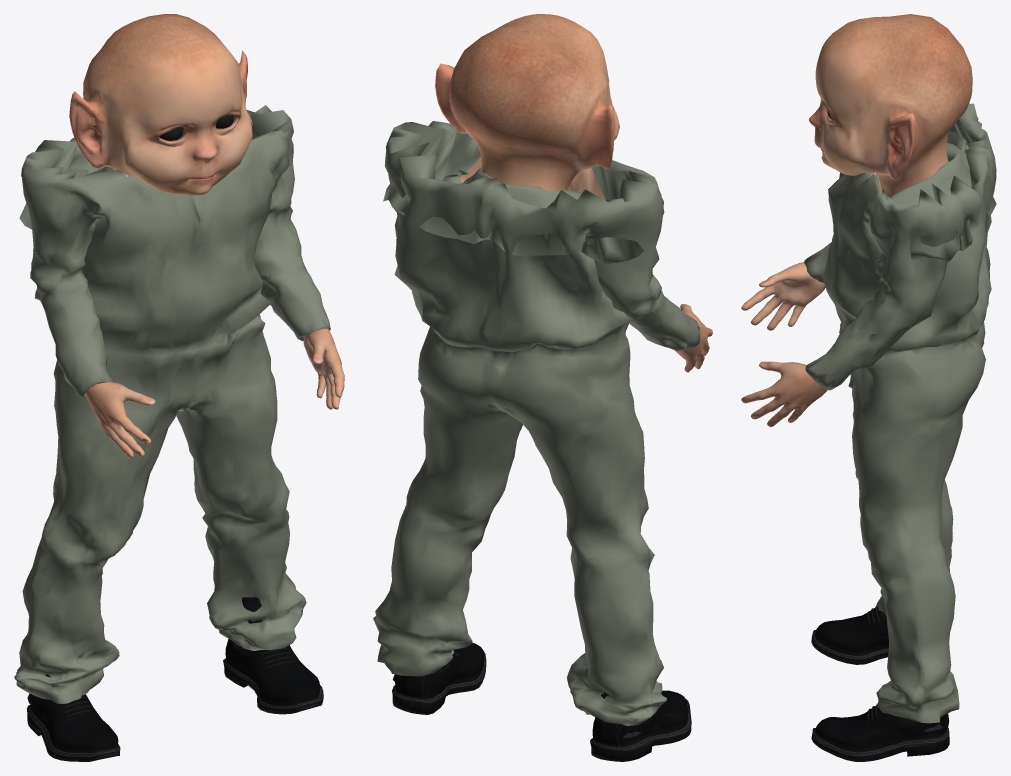
Rendered from valensole-being.glb.
3 views of the same model, side by side, from view 1: azimuth 30°, elevation 25°; view 2: azimuth 150°, elevation 25°; view 3: azimuth 270°, elevation 25° (orthographic). The views are drawn at different scales.
Parts seen in each view (by area): view 1: Human.male_coverall01.001, Human.001, Human.shoes03.001; view 2: Human.male_coverall01.001, Human.001, Human.shoes03.001; view 3: Human.male_coverall01.001, Human.001, Human.shoes03.001.
Part boxes in pixels (box(x1,y1,x2,y2)): Human.male_coverall01.001: box(14, 105, 330, 703); Human.001: box(69, 14, 344, 458); Human.shoes03.001: box(27, 597, 323, 761); Human.male_coverall01.001: box(373, 121, 700, 725); Human.001: box(435, 14, 712, 372); Human.shoes03.001: box(392, 642, 691, 761); Human.male_coverall01.001: box(804, 103, 996, 723); Human.001: box(741, 14, 972, 427); Human.shoes03.001: box(811, 605, 949, 761).
Bounding box in the file's own units: 0.429 × 0.9744 × 0.3324.
4 materials, 3 textured.
